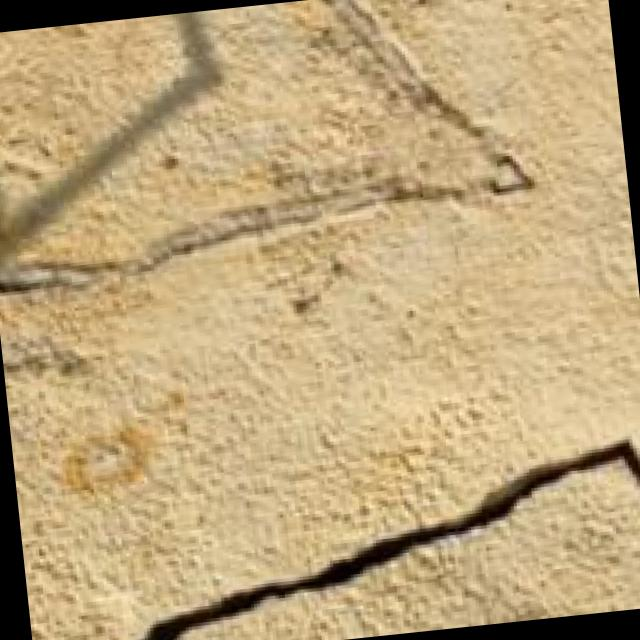crack: (29, 363, 640, 640)
